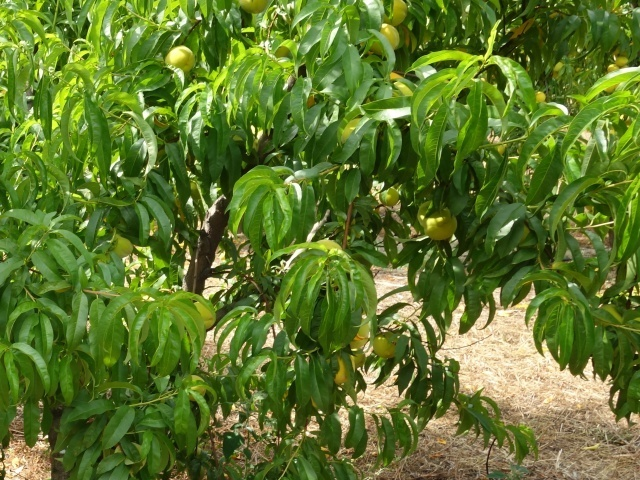peach: (417, 207, 458, 242), (369, 20, 405, 59), (189, 294, 220, 334), (162, 42, 196, 75), (370, 329, 403, 361), (379, 1, 413, 30), (109, 233, 140, 264), (185, 369, 208, 403), (232, 1, 274, 17), (374, 185, 401, 209)
